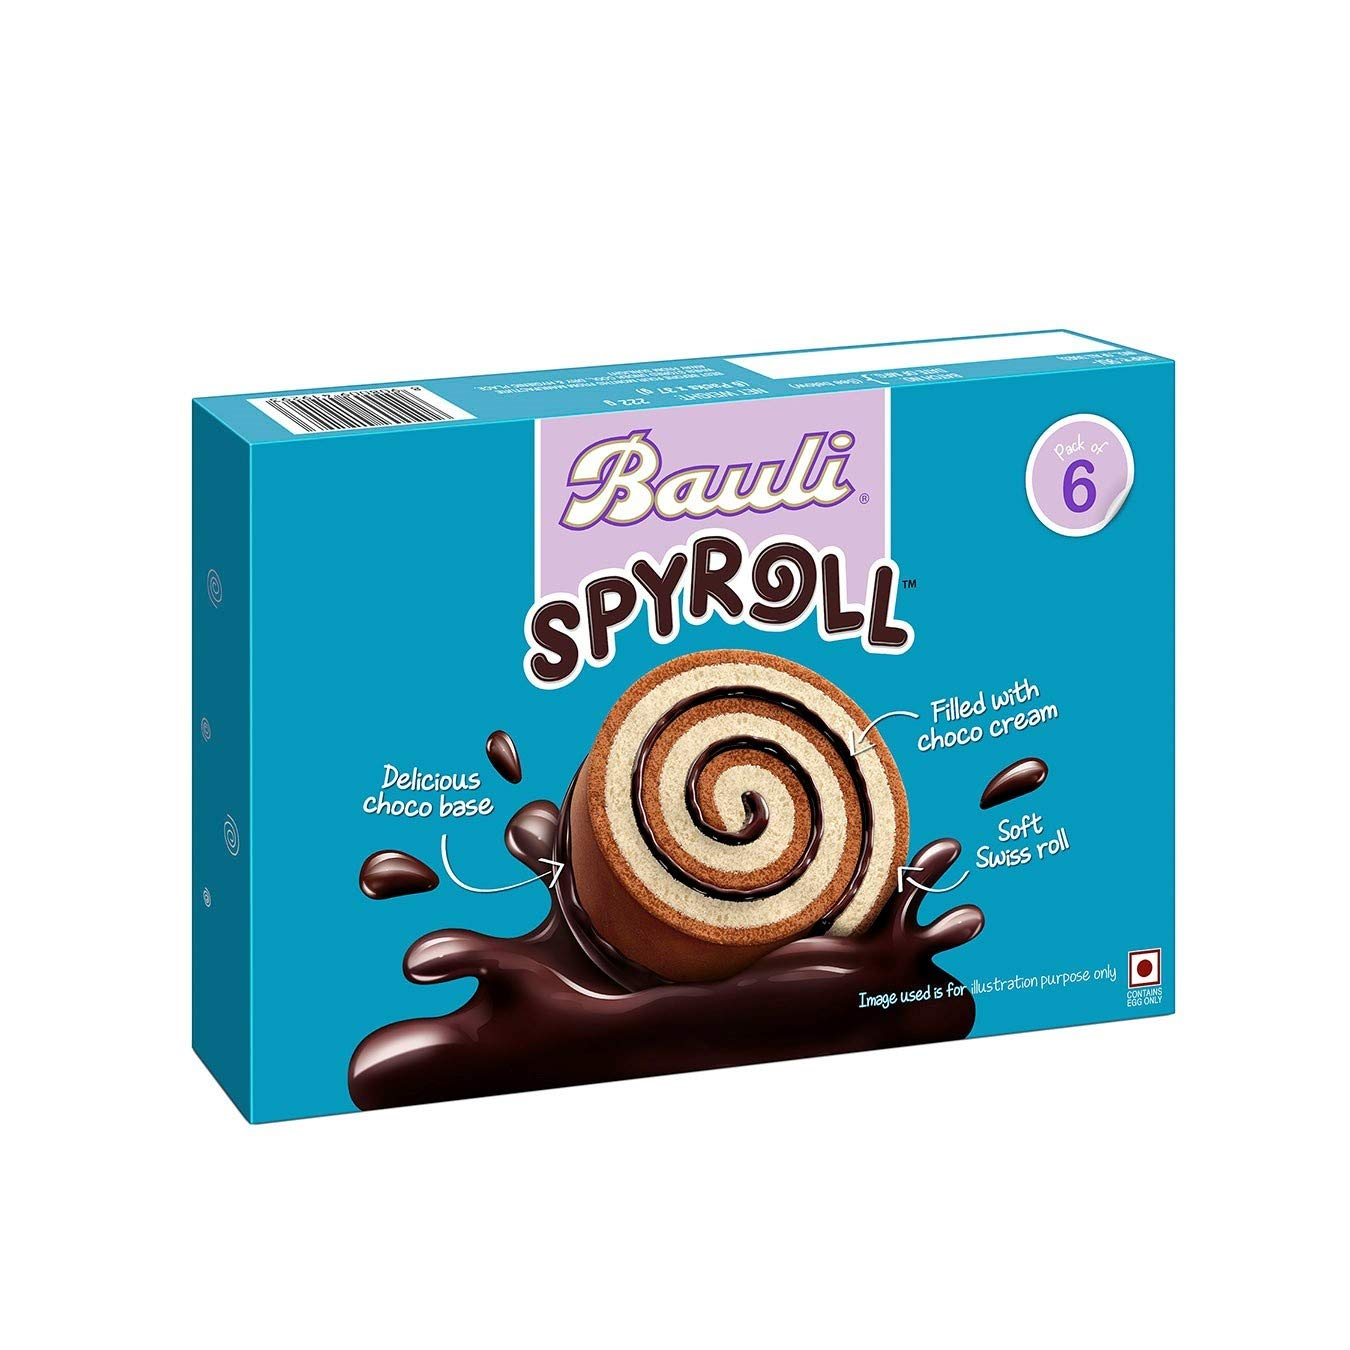nonveg_red: (1127, 948, 1162, 988)
